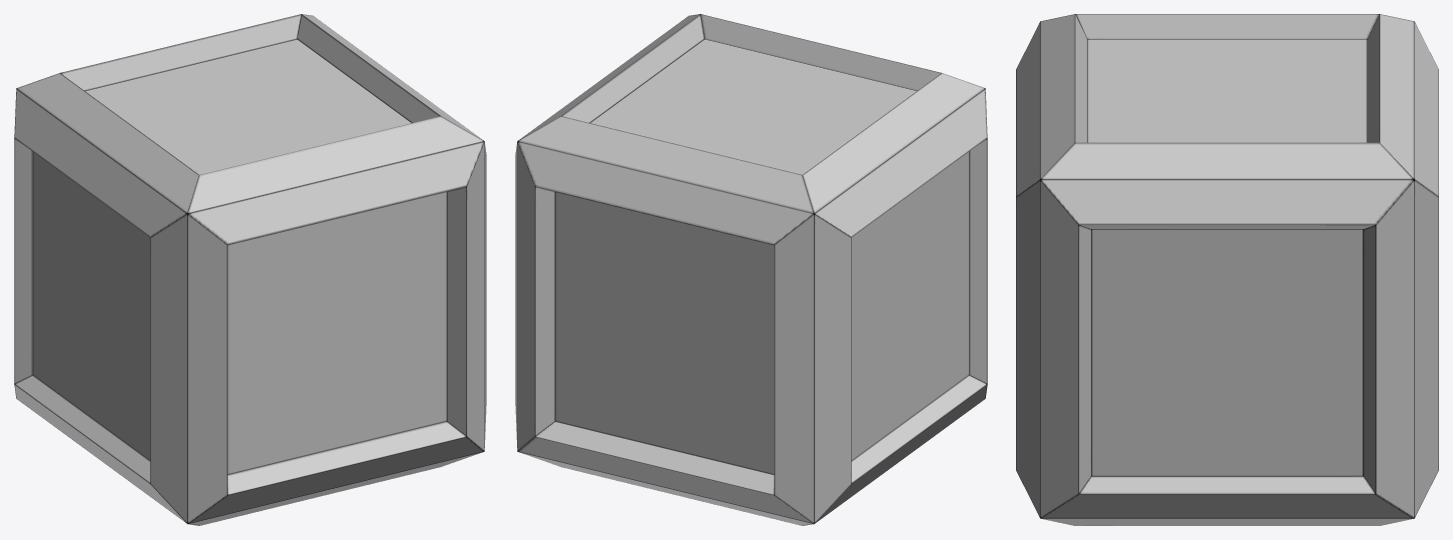
File: BlocoLetra.fbx
3 renders of one model, left to right at view 1: azimuth 30°, elevation 25°; view 2: azimuth 150°, elevation 25°; view 3: azimuth 270°, elevation 25°, orthographic. The views are drawn at different scales.
Parts seen in each view (by area): view 1: Cube; view 2: Cube; view 3: Cube.
Boxes of the visible parts, bbox=[...] form: Cube: bbox=[14, 14, 486, 525]; Cube: bbox=[515, 14, 987, 525]; Cube: bbox=[1016, 14, 1438, 525].
Bounding box in the file's own units: 1.5 × 1.5 × 1.5.
